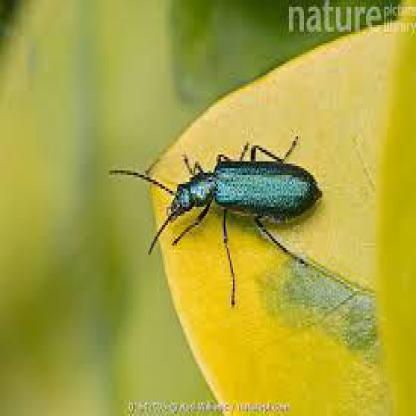blister beetle: (108, 138, 325, 255)
